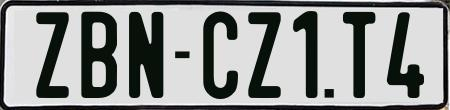1: (292, 9, 318, 96)
4: (384, 10, 427, 98)
B: (79, 12, 119, 104)
C: (201, 11, 236, 105)
N: (128, 12, 167, 99)
T: (343, 9, 379, 97)
Z: (247, 11, 286, 100), (33, 10, 68, 99)
